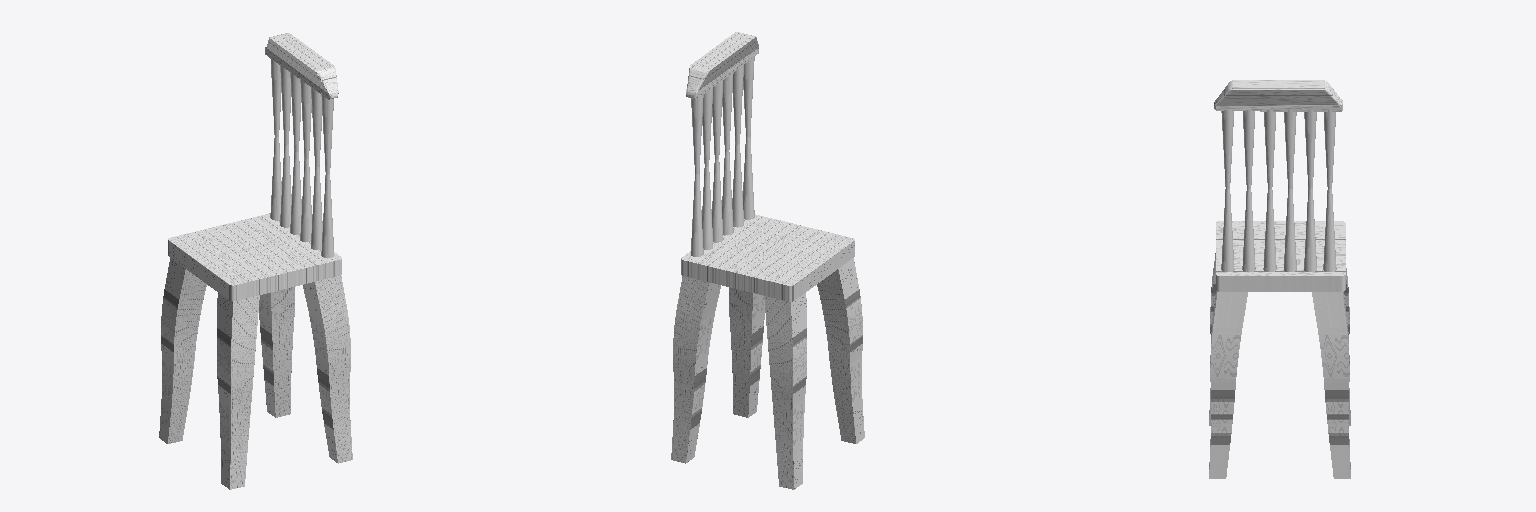
3 views of the same model, side by side, from view 1: azimuth 30°, elevation 25°; view 2: azimuth 150°, elevation 25°; view 3: azimuth 270°, elevation 25° (orthographic).
Parts seen in each view (by area): view 1: Cubo.002_Cubo.003; view 2: Cubo.002_Cubo.003; view 3: Cubo.002_Cubo.003.
Boxes of the visible parts, x1,y1,x2,y2 form: Cubo.002_Cubo.003: [159, 33, 352, 489]; Cubo.002_Cubo.003: [671, 32, 864, 489]; Cubo.002_Cubo.003: [1209, 80, 1350, 478].
Size of the model in its own units: 9.1 by 27.33 by 9.1.
Materials: 1 (1 with a texture image).